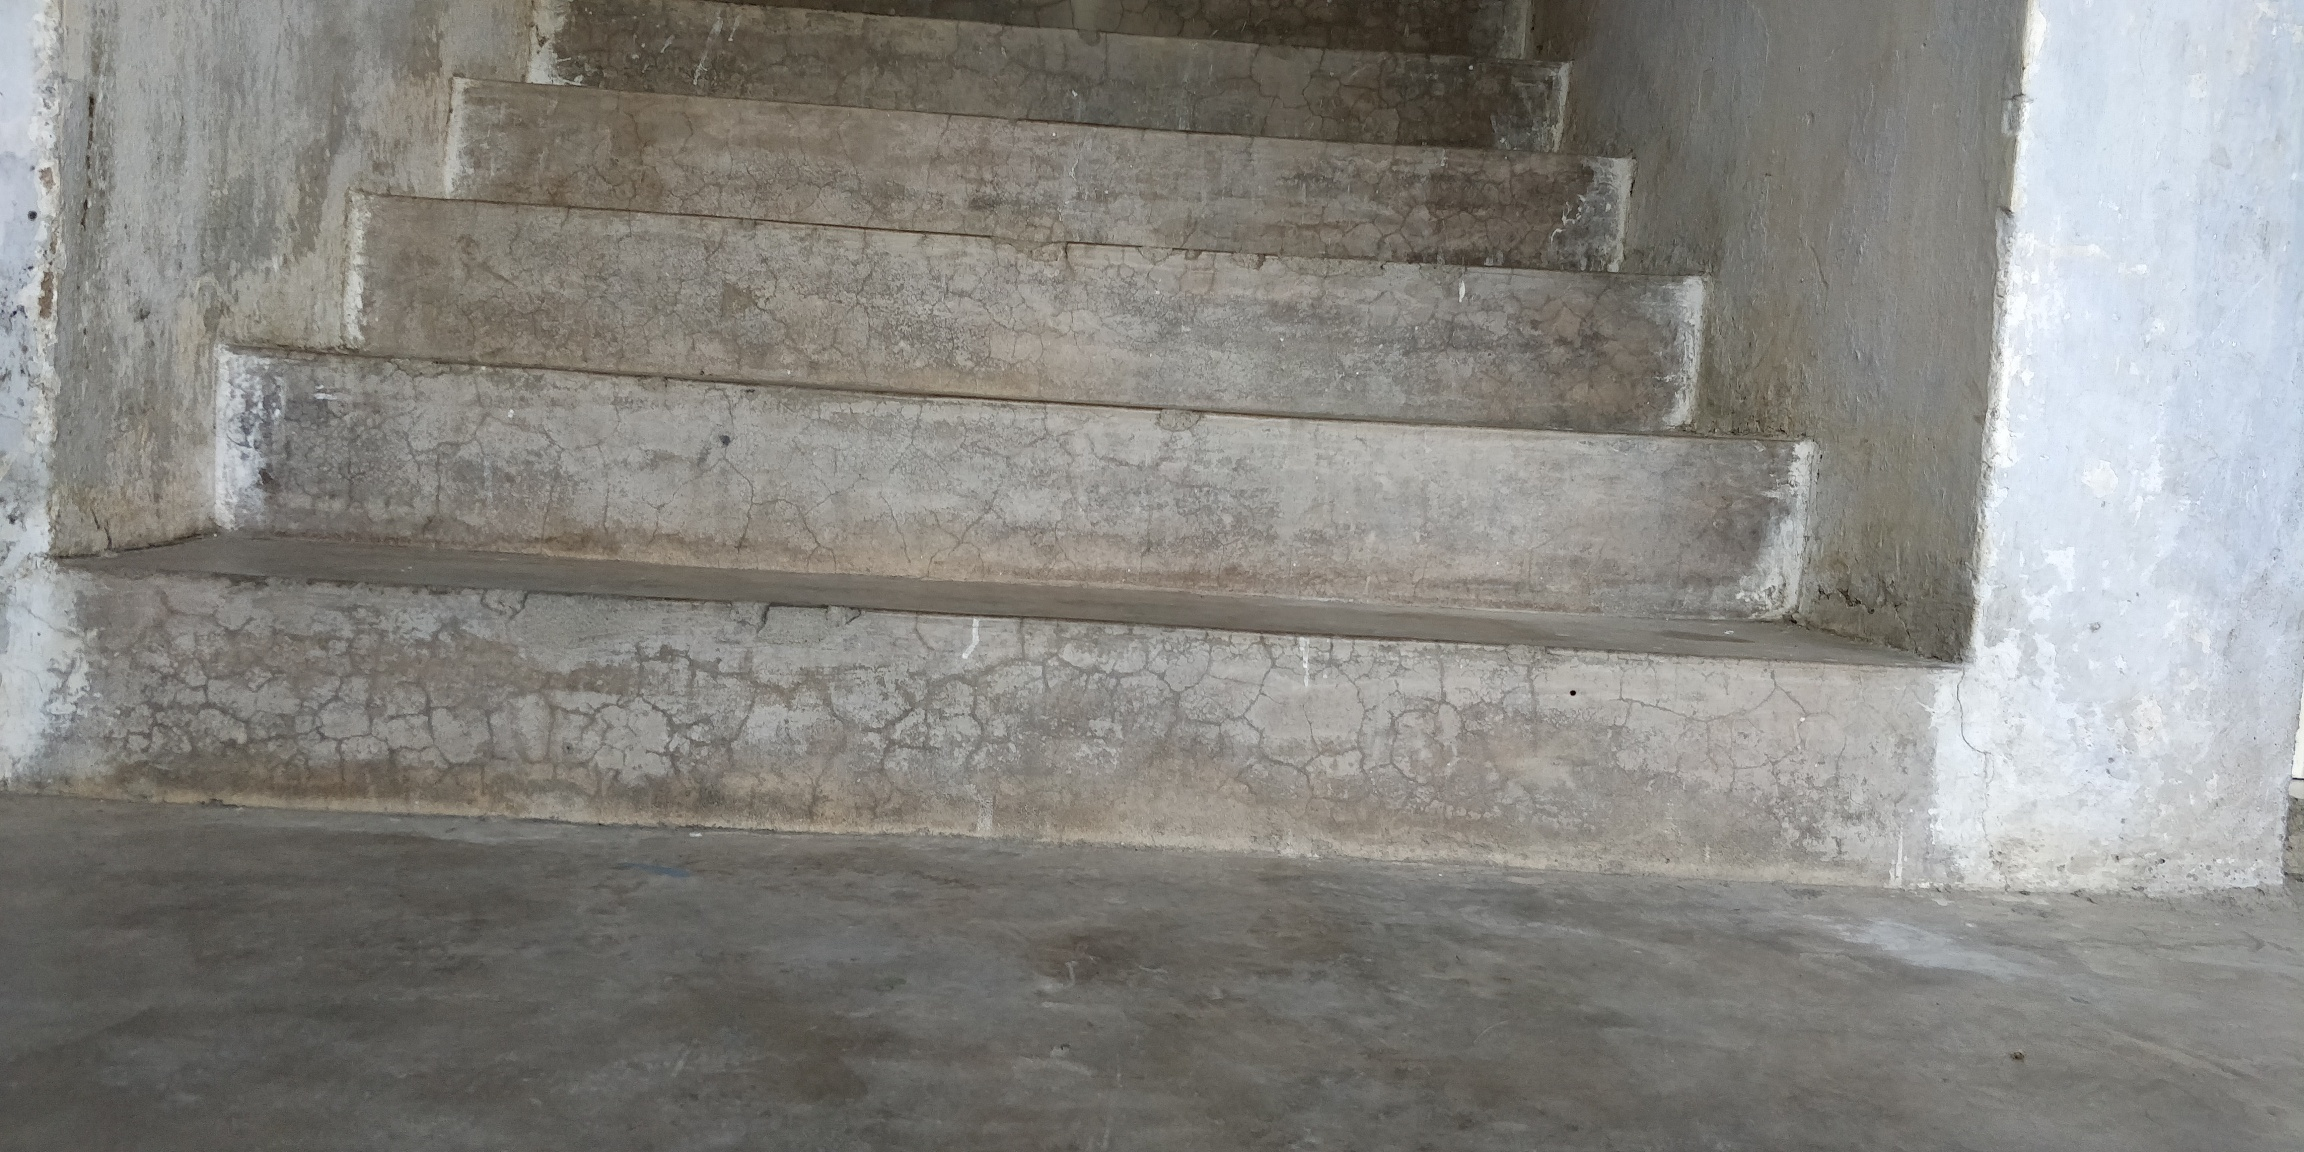stairs_up: (179, 15, 1929, 921)
